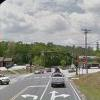Car: (48, 68, 68, 91)
